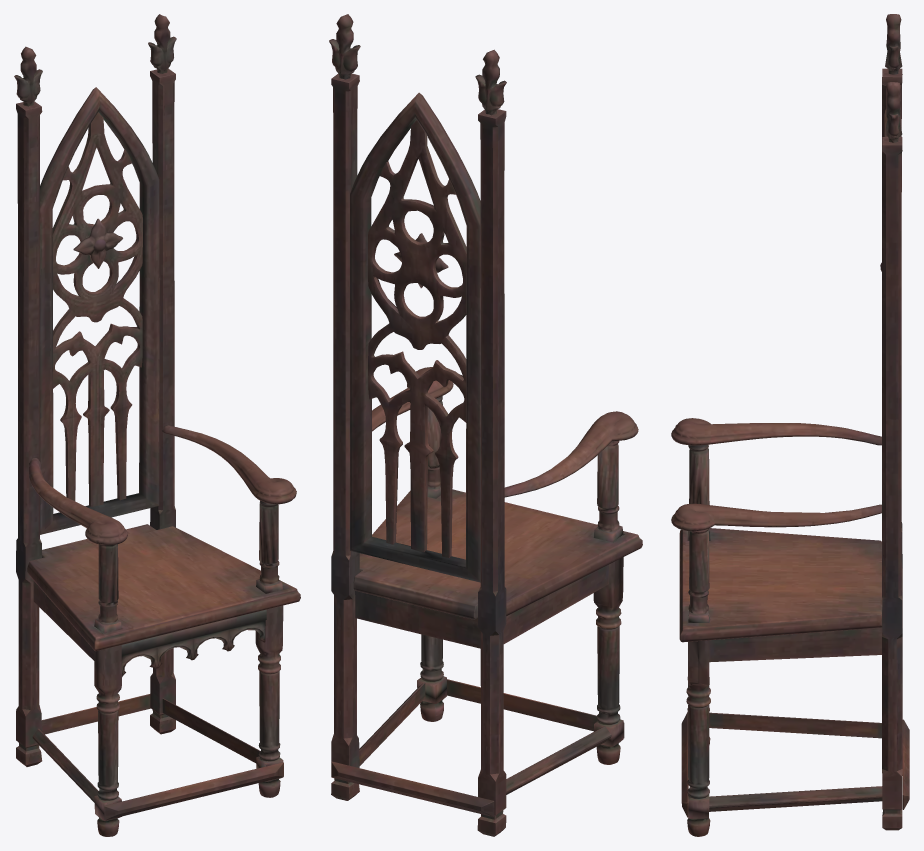
File: WoodenChair_01.glb
3 renders of one model, left to right at view 1: azimuth 30°, elevation 25°; view 2: azimuth 150°, elevation 25°; view 3: azimuth 270°, elevation 25°, orthographic. The views are drawn at different scales.
Parts seen in each view (by area): view 1: WoodenChair_01; view 2: WoodenChair_01; view 3: WoodenChair_01.
Part boxes in pixels (bbox=[...]): WoodenChair_01: bbox=[14, 14, 300, 836]; WoodenChair_01: bbox=[329, 14, 642, 836]; WoodenChair_01: bbox=[671, 14, 909, 836].
Size of the model in its own units: 0.6881 by 2.27 by 0.6584.
Materials: 1 (1 with a texture image).
